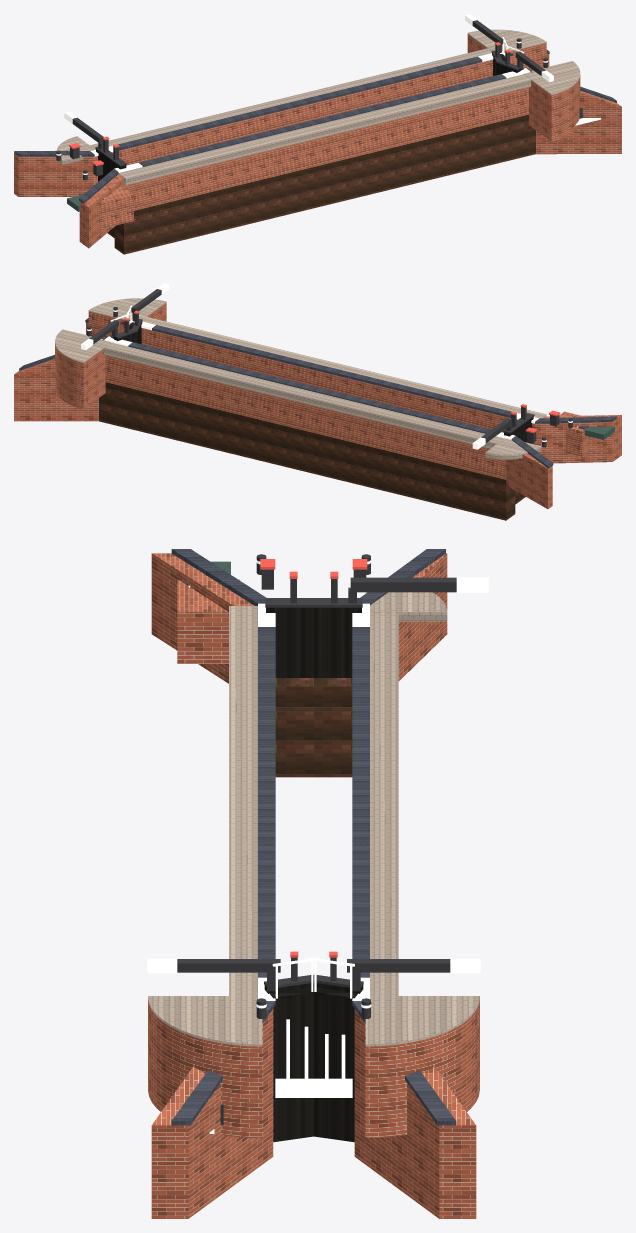
The model's file is lock-52.glb.
3 renders of one model, top to bottom at view 1: azimuth 30°, elevation 25°; view 2: azimuth 150°, elevation 25°; view 3: azimuth 270°, elevation 25°, orthographic. The views are drawn at different scales.
Parts seen in each view (by area): view 1: Chamber, ChamberWet, Edge, Coping.001, TopGateCap, Coping, TopGate; view 2: Chamber, ChamberWet, Edge, Coping.001, TopGateCap, Coping, TopGate; view 3: Chamber, Edge, Coping.001, TopGate, TopGateCap, ChamberWet, Coping, Leak.
Part boxes in pixels (bbox=[...]): Chamber: bbox=[14, 34, 621, 248]; ChamberWet: bbox=[107, 114, 535, 254]; Edge: bbox=[56, 29, 580, 185]; Coping.001: bbox=[14, 50, 616, 203]; TopGateCap: bbox=[56, 20, 582, 180]; Coping: bbox=[56, 14, 553, 174]; TopGate: bbox=[96, 53, 523, 181]; Chamber: bbox=[14, 303, 621, 508]; ChamberWet: bbox=[99, 382, 525, 520]; Edge: bbox=[55, 298, 546, 459]; Coping.001: bbox=[19, 318, 616, 468]; TopGateCap: bbox=[87, 289, 572, 447]; Coping: bbox=[81, 283, 572, 449]; TopGate: bbox=[111, 322, 533, 443]; Chamber: bbox=[148, 553, 479, 1218]; Edge: bbox=[148, 592, 479, 1046]; Coping.001: bbox=[171, 549, 456, 1125]; TopGate: bbox=[264, 607, 363, 1142]; TopGateCap: bbox=[177, 554, 456, 1125]; ChamberWet: bbox=[275, 678, 352, 777]; Coping: bbox=[147, 559, 488, 1008]; Leak: bbox=[188, 585, 352, 1133].
Bounding box in the file's own units: 33.09 × 5.74 × 9.26.
11 materials, 8 textured.
